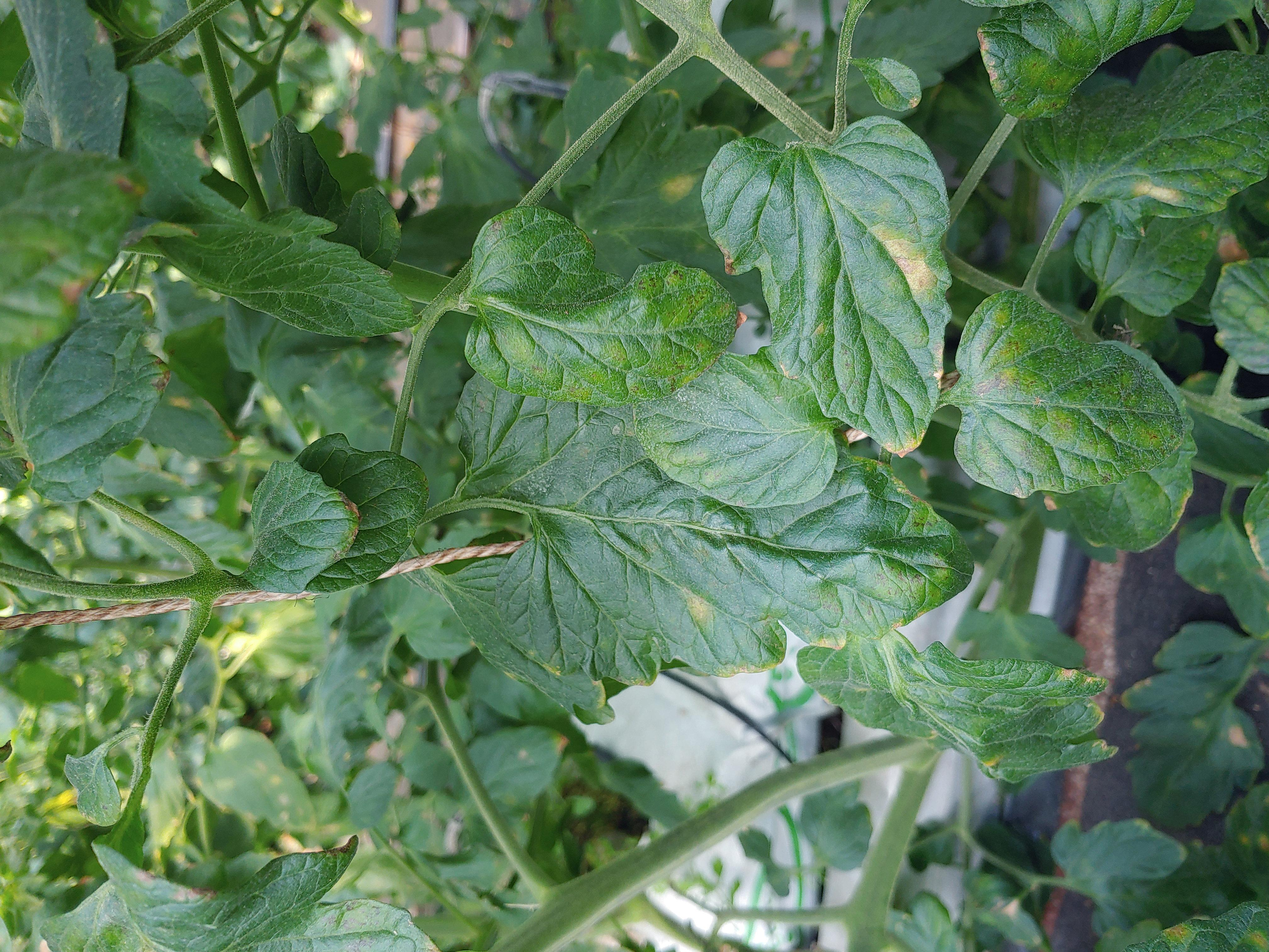Leaf Mold: (453, 368, 976, 686), (703, 113, 954, 458), (463, 207, 738, 408), (957, 289, 1200, 498), (1027, 43, 1269, 241), (1116, 619, 1264, 830)
